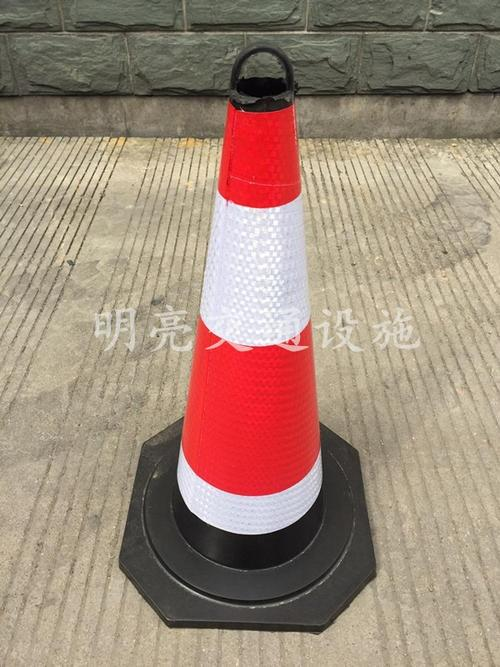cone_barrel: (160, 33, 343, 585)
